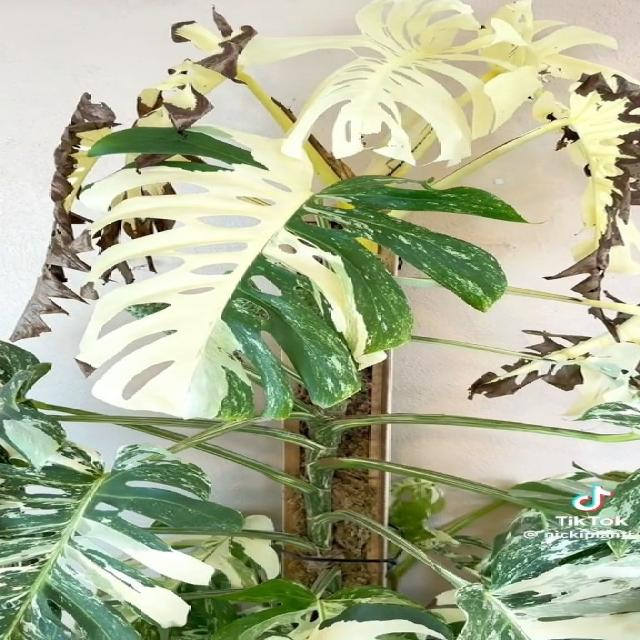lisc_suchy: (9, 6, 258, 343), (468, 62, 640, 401)
lisc_variegata: (69, 119, 524, 421), (0, 341, 281, 640), (237, 0, 620, 167), (431, 531, 640, 640), (203, 578, 456, 640), (391, 478, 459, 548), (563, 384, 640, 427), (510, 472, 614, 498)
roslina_sucha: (0, 0, 640, 640)
roslina_variegata: (0, 0, 640, 640)
